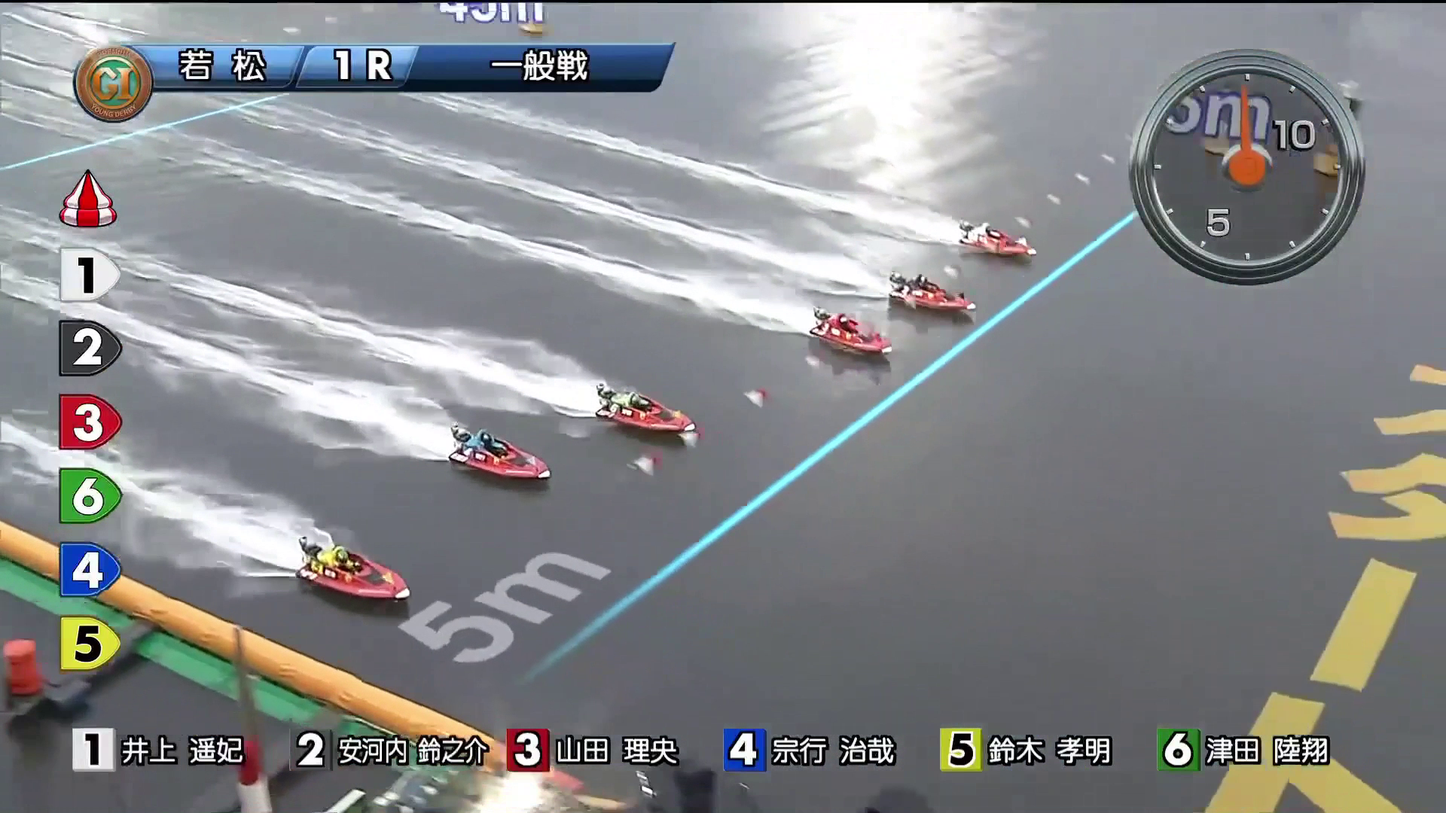１号艇: (913, 216, 985, 262)
２号艇: (891, 270, 953, 308)
３号艇: (814, 308, 869, 349)
４号艇: (624, 386, 688, 429)
５号艇: (491, 452, 560, 490)
６号艇: (388, 579, 453, 626)
